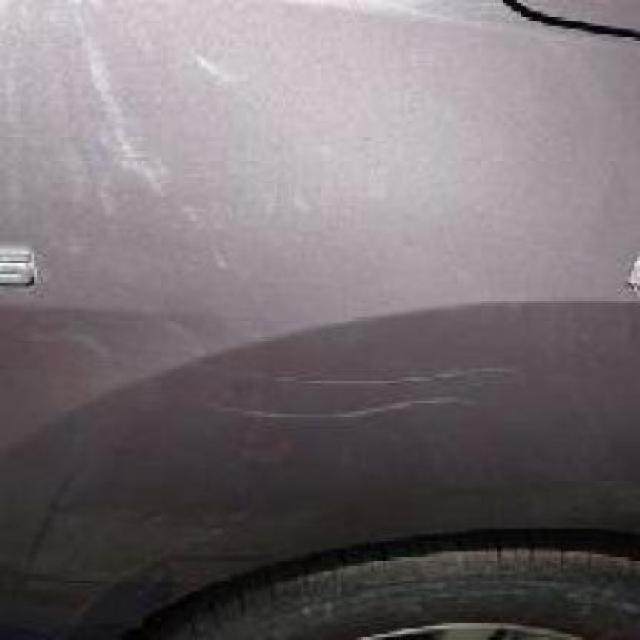dent-or-scratch: (236, 348, 522, 437)
